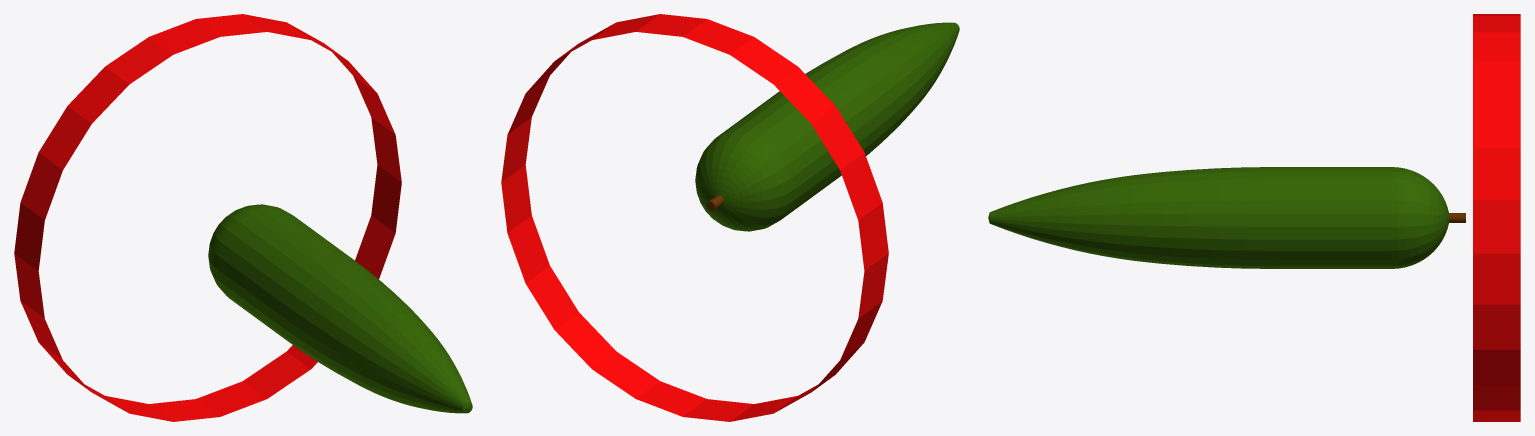
The model's file is LPKo7m.obj.
3 views of the same model, side by side, from view 1: azimuth 30°, elevation 25°; view 2: azimuth 150°, elevation 25°; view 3: azimuth 270°, elevation 25° (orthographic). The views are drawn at different scales.
Size of the model in its own units: 6 by 6 by 7.8.
